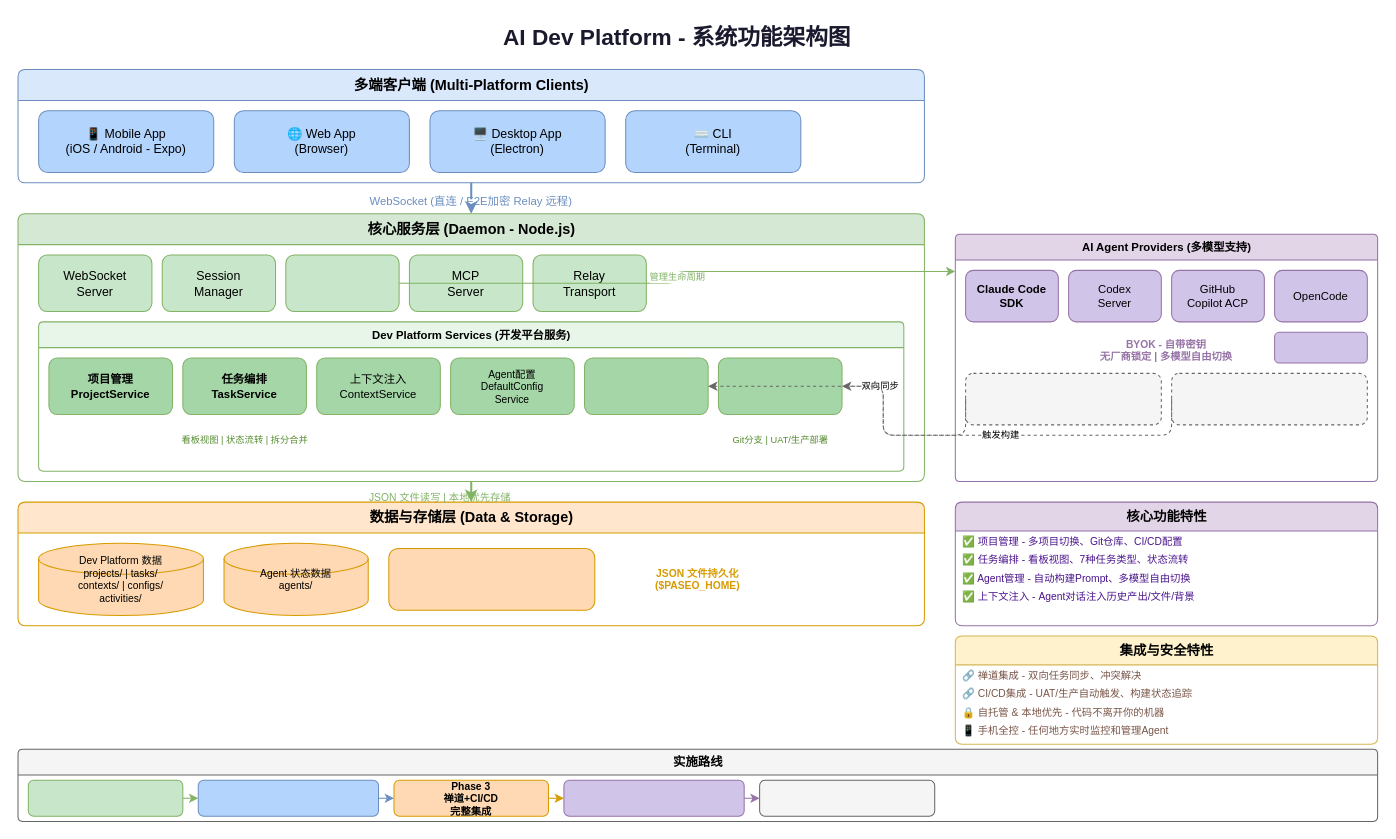
This 1396x839 diagram has some shape labels left out. Each missing label, with the centre of its shape:
Agent Manager: the point at 342,283
CI/CD 平台 Jenkins | GitHub Actions GitLab CI: the point at 1269,398
CI/CD集成 CICDService: the point at 779,386
Phase 1 核心数据层 + 基础UI: the point at 105,797
Phase 2 Agent工作流 分支管理+CI/CD: the point at 288,797
Phase 4 AI辅助功能 需求分析/设计生成: the point at 653,797
Phase 5 生产打磨 E2E测试/快捷键: the point at 847,797
Pi: the point at 1320,347
本地文件系统 (代码始终在用户机器上): the point at 491,578
禅道 Zentao (项目管理平台): the point at 1063,398
禅道集成 ZentaoConfig Service: the point at 645,386
